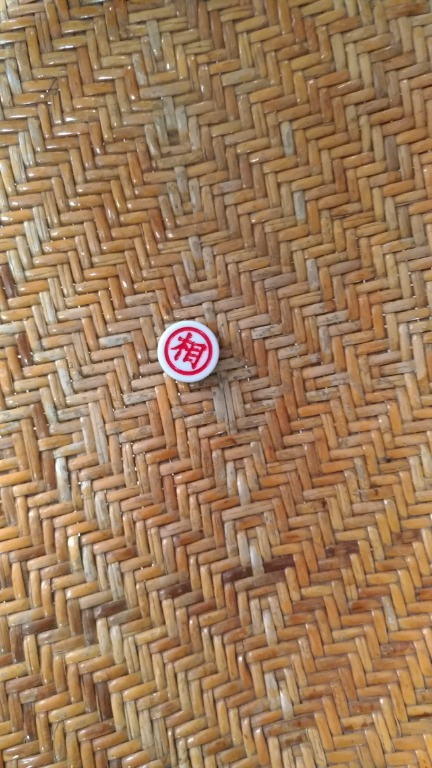r-elephant: (142, 318, 240, 392)
